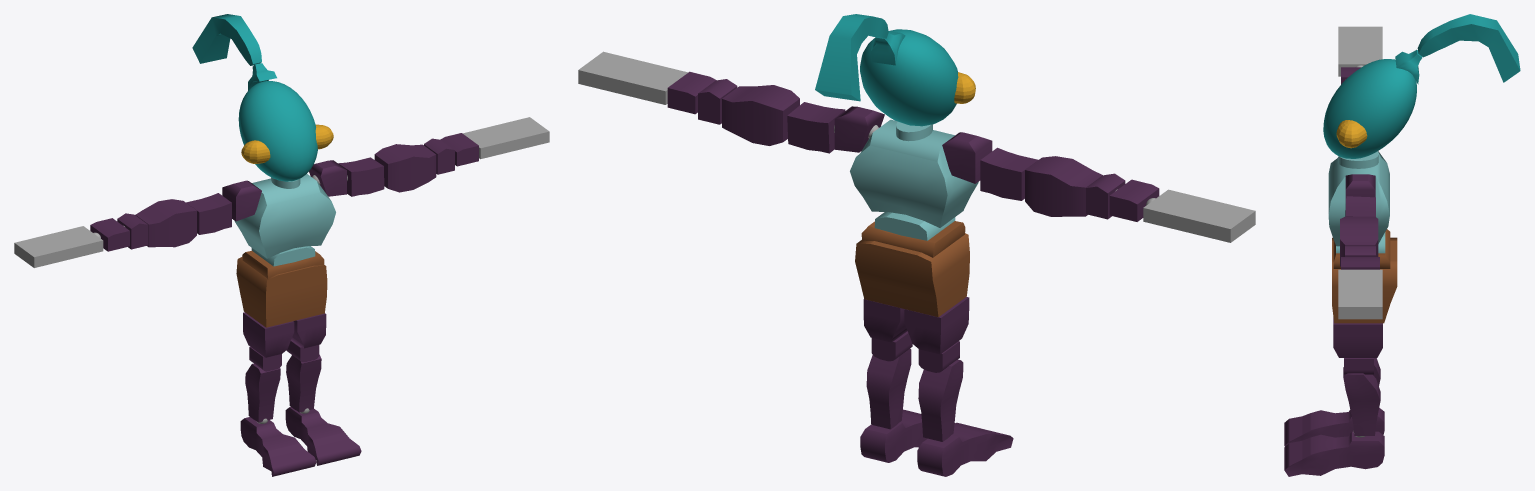
The model's file is AbeForMixAmo.fbx.
3 views of the same model, side by side, from view 1: azimuth 30°, elevation 25°; view 2: azimuth 150°, elevation 25°; view 3: azimuth 270°, elevation 25° (orthographic). The views are drawn at different scales.
Visible parts, largest first — view 1: Head1, Torso, Hips, RightFoot, LeftFoot, pCube2, LeftForeArm, RForeArm, pCube1, RightCalve, LeftCalve, RightQuad (+12 smaller); view 2: Head1, Torso, Hips, pCube2, LeftForeArm, RForeArm, pCube1, RightFoot, RightCalve, LeftCalve, RightQuad, LeftFoot (+13 smaller); view 3: Head1, LeftFoot, Torso, pCube1, RightFoot, LeftCalve, pCube2, LeftQuad, Hips, LeftForeArm, Leftshoulder, LefTEyeBall (+6 smaller).
Part boxes in pixels (x1,y1,x2,y2): Head1: [192, 14, 317, 181]; Torso: [234, 174, 335, 258]; Hips: [236, 257, 327, 327]; RightFoot: [240, 417, 316, 476]; LeftFoot: [285, 407, 361, 465]; pCube2: [14, 226, 103, 267]; LeftForeArm: [374, 144, 436, 192]; RForeArm: [135, 199, 196, 247]; pCube1: [463, 117, 549, 159]; RightCalve: [245, 363, 280, 422]; LeftCalve: [286, 354, 321, 412]; RightQuad: [243, 312, 294, 357]; Head1: [815, 14, 958, 126]; Torso: [850, 119, 978, 227]; Hips: [855, 233, 969, 317]; pCube2: [1143, 189, 1255, 242]; LeftForeArm: [722, 85, 799, 145]; RForeArm: [1025, 156, 1102, 216]; pCube1: [578, 51, 688, 104]; RightFoot: [917, 422, 1013, 476]; RightCalve: [918, 359, 963, 441]; LeftCalve: [866, 349, 911, 429]; RightQuad: [904, 297, 969, 354]; LeftFoot: [860, 409, 955, 462]; Head1: [1323, 14, 1520, 158]; LeftFoot: [1284, 431, 1384, 476]; Torso: [1328, 151, 1389, 246]; pCube1: [1338, 269, 1382, 319]; RightFoot: [1284, 408, 1384, 446]; LeftCalve: [1343, 367, 1380, 435]; pCube2: [1338, 26, 1382, 76]; LeftQuad: [1333, 317, 1382, 357]; Hips: [1332, 237, 1397, 323]; LeftForeArm: [1340, 216, 1378, 266]; Leftshoulder: [1345, 174, 1375, 203]; LefTEyeBall: [1336, 120, 1367, 148].
Size of the model in its own units: 9.34 by 6.78 by 3.33.
